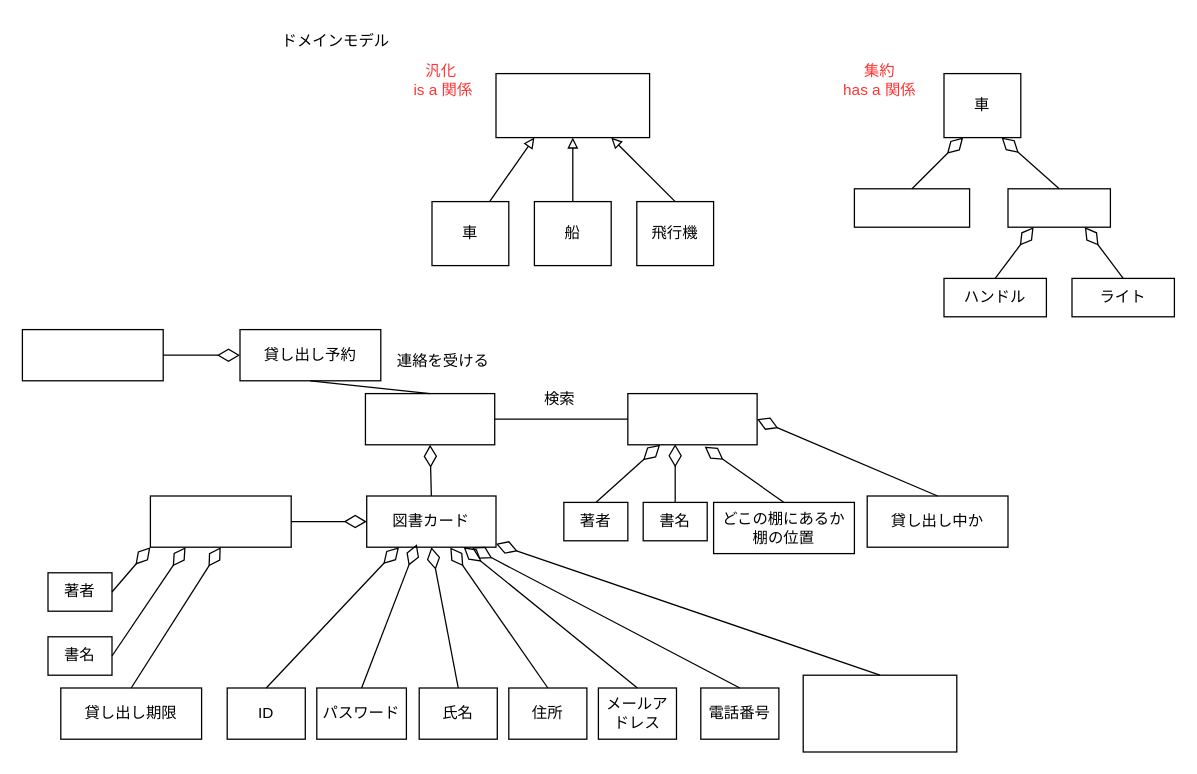
Image size: 1197x774. Some labels were removed from this diagram. Here are the shapes that lost their labels. From the top down, the centre of each, then its label:
At (x=572, y=105): "乗り物".
At (x=911, y=207): "エンジン".
At (x=1058, y=207): "ボディ".
At (x=92, y=354): "必要事項".
At (x=429, y=418): "利用者".
At (x=692, y=418): "図書".
At (x=220, y=521): "借りている本".
At (x=879, y=713): "あと何冊借りることができるか".
